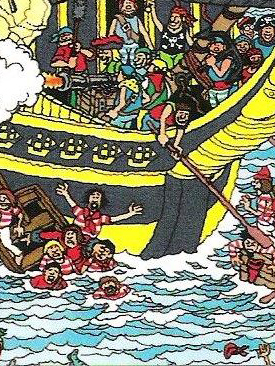waldo: (235, 14, 256, 39)
